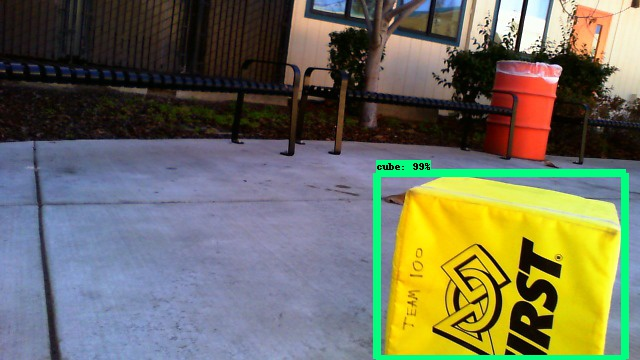cube: (380, 173, 624, 360)
